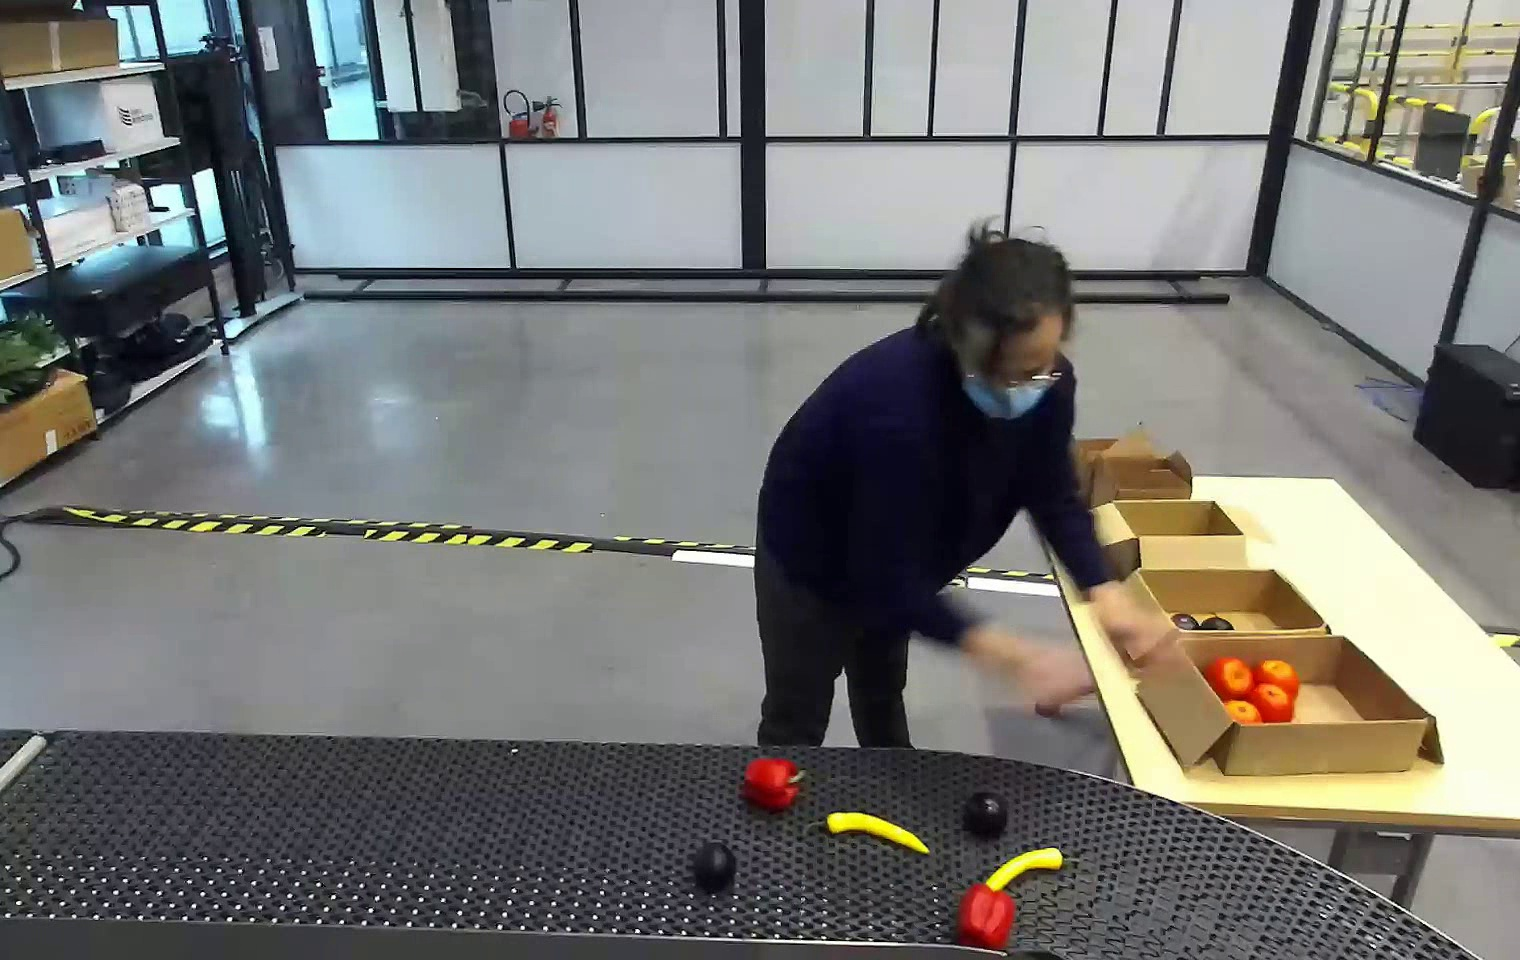Main droite: (933, 741, 1004, 847)
